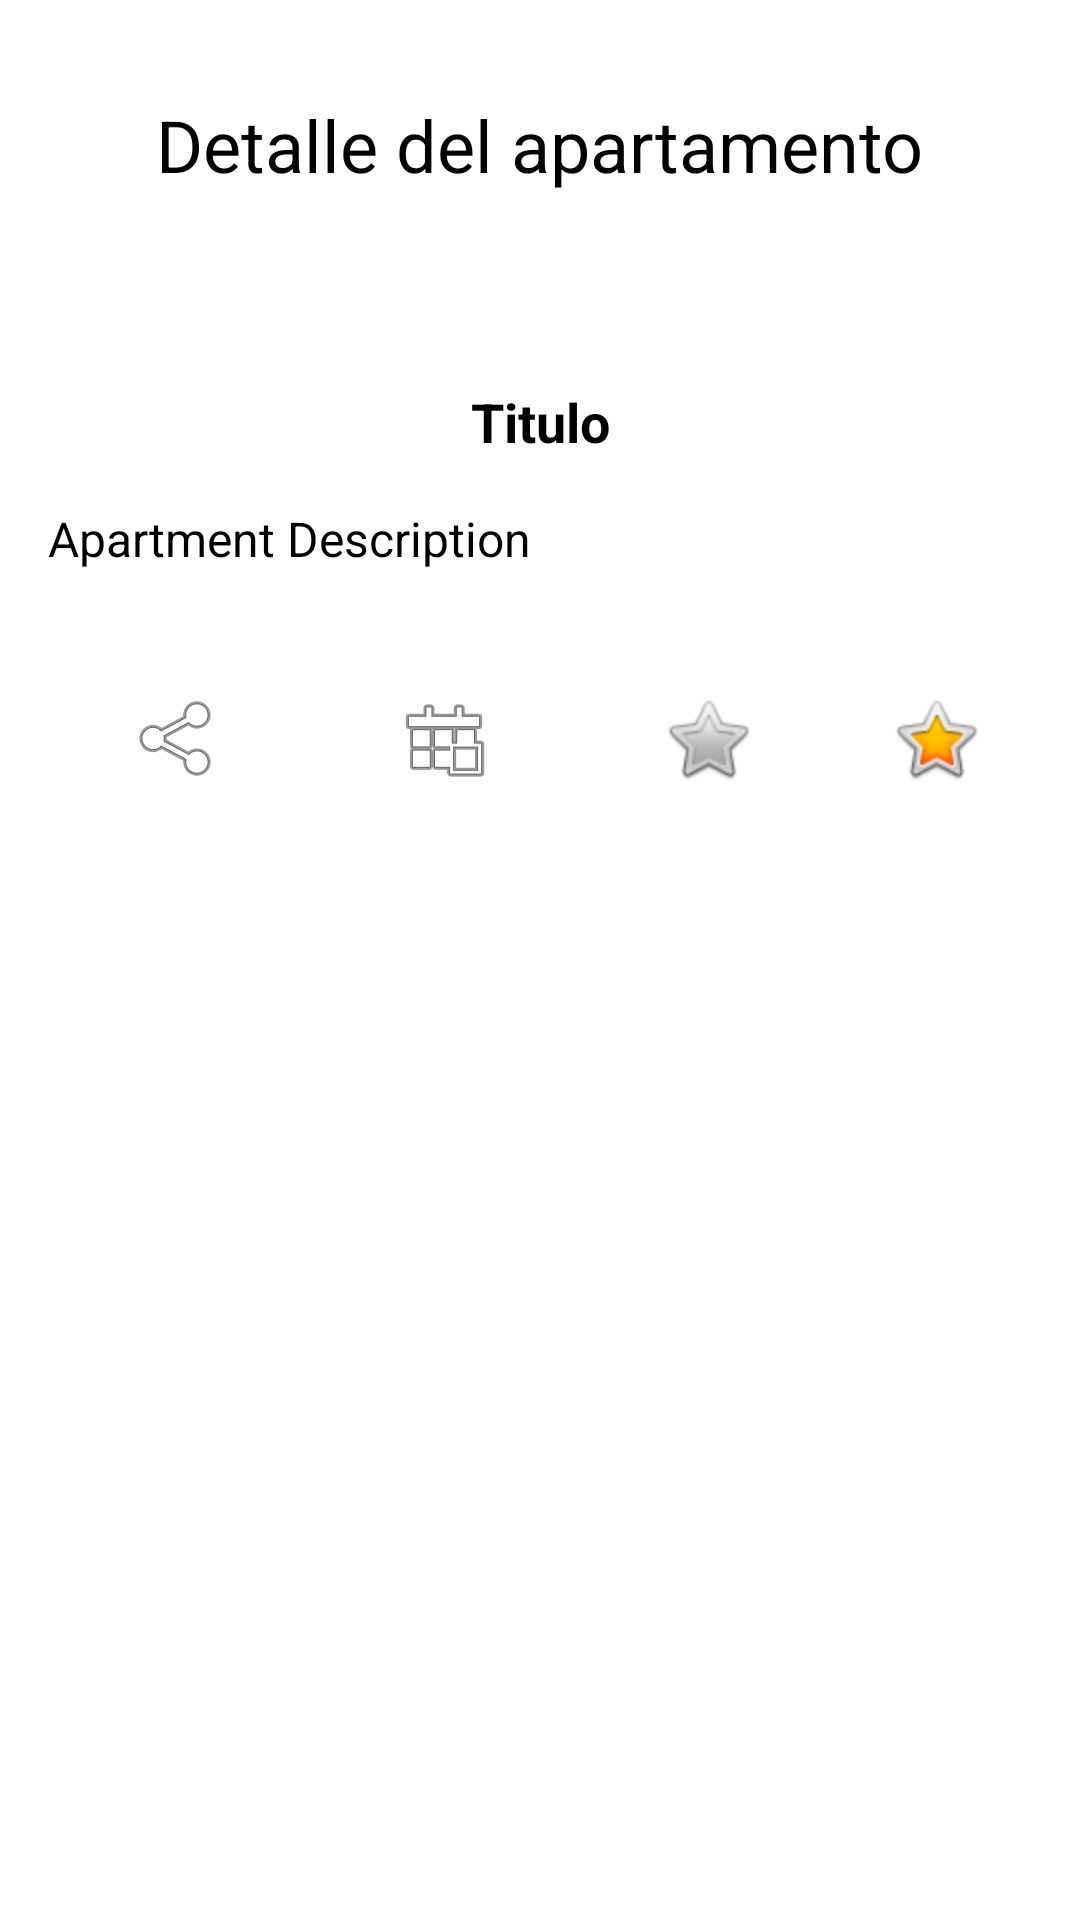

Where to tap for icons on this 1080px×1920px app screen, as point (x, y):
share: point (175, 738)
star: point (709, 740)
star on: point (937, 740)
today: point (445, 740)
